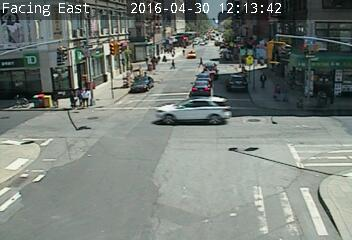neg: (8, 89, 24, 111), (314, 89, 328, 108), (118, 73, 131, 90), (296, 92, 308, 107), (239, 61, 250, 75), (143, 58, 153, 73), (259, 56, 268, 68), (220, 49, 228, 60), (187, 50, 193, 58)
pos: (62, 87, 81, 112), (71, 85, 89, 110), (78, 86, 95, 109), (256, 71, 271, 90), (279, 83, 293, 102), (272, 83, 286, 101), (169, 57, 178, 70), (196, 55, 205, 68)
